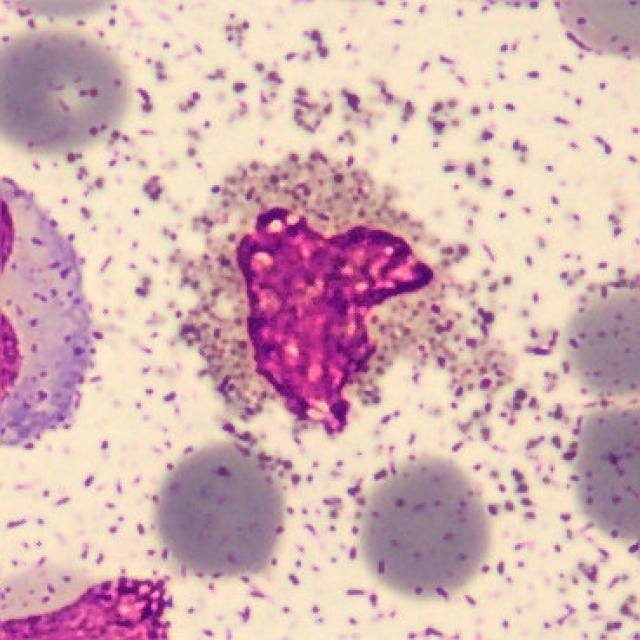Restos celulares: (179, 152, 480, 434)
